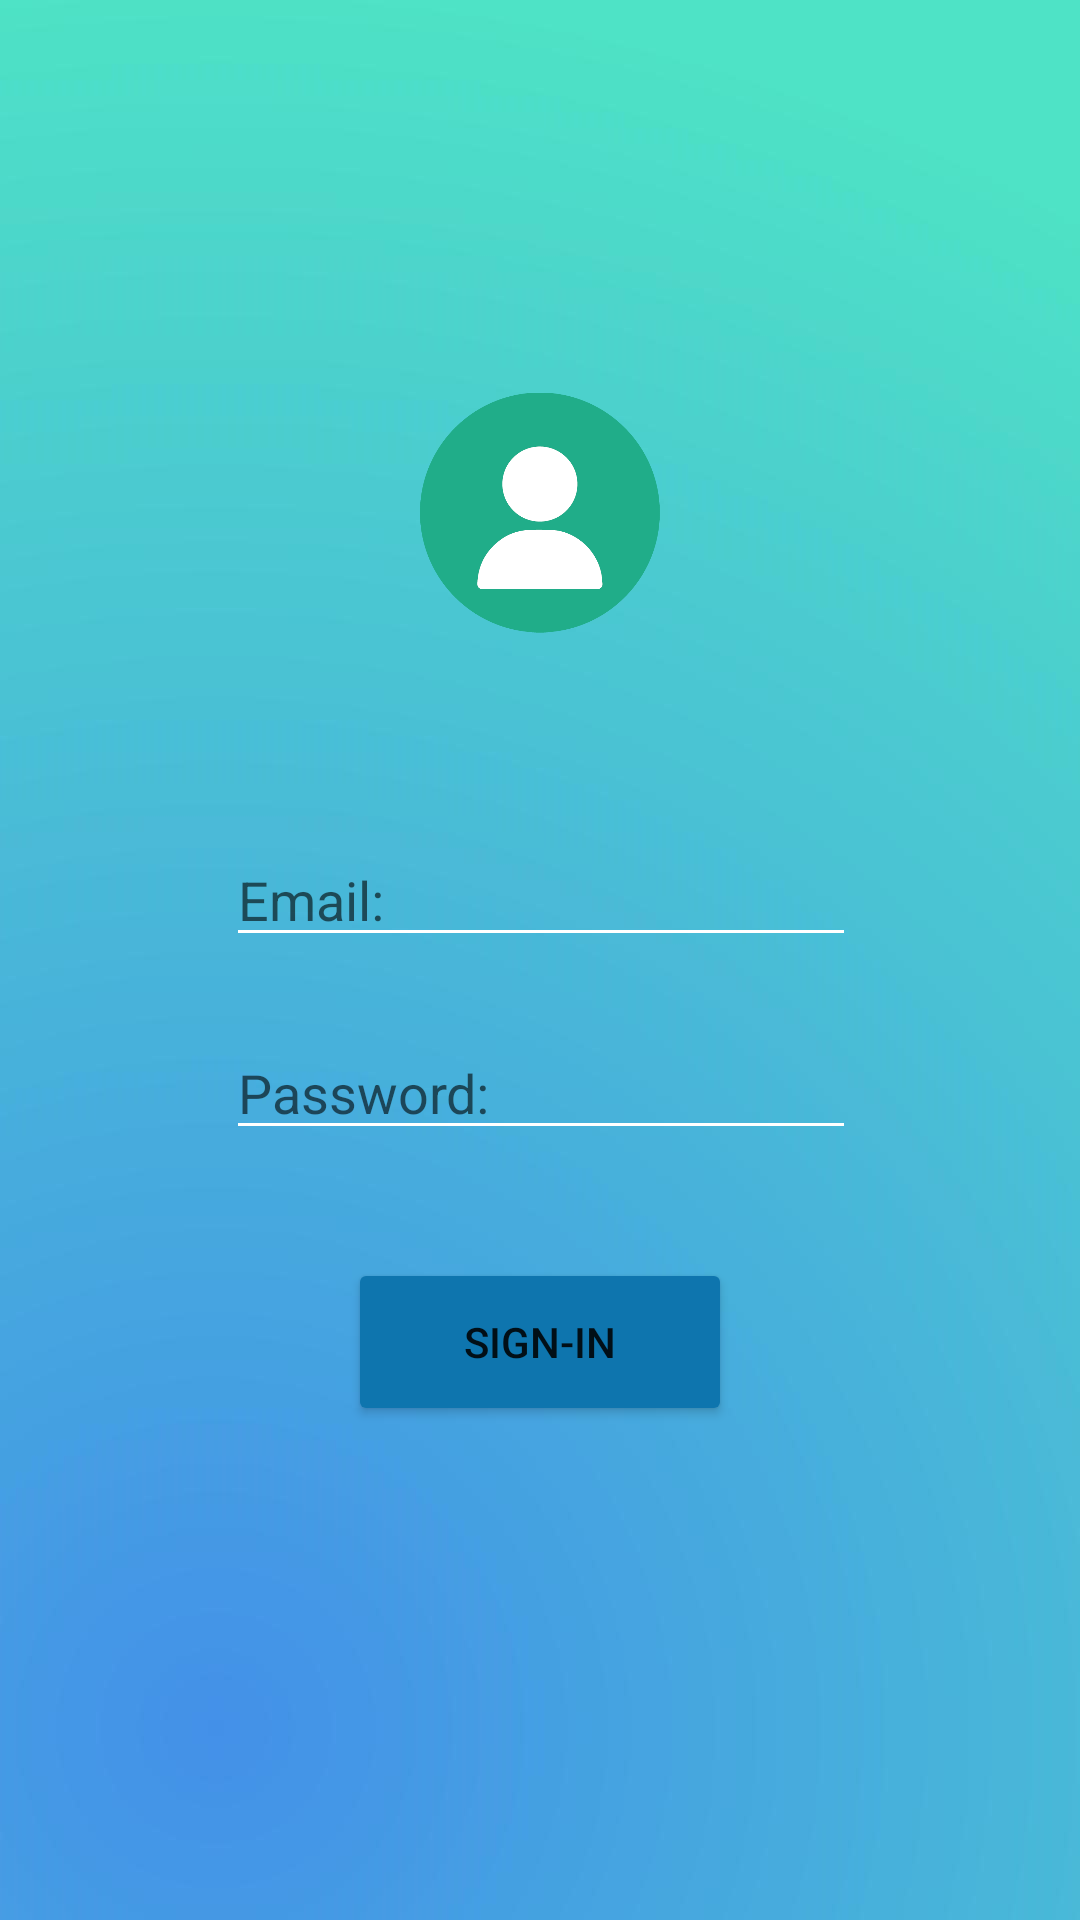

Icons on this 1080*1920 Android screen, each with the point to tap as [x,y]:
fix user: [540,513]
